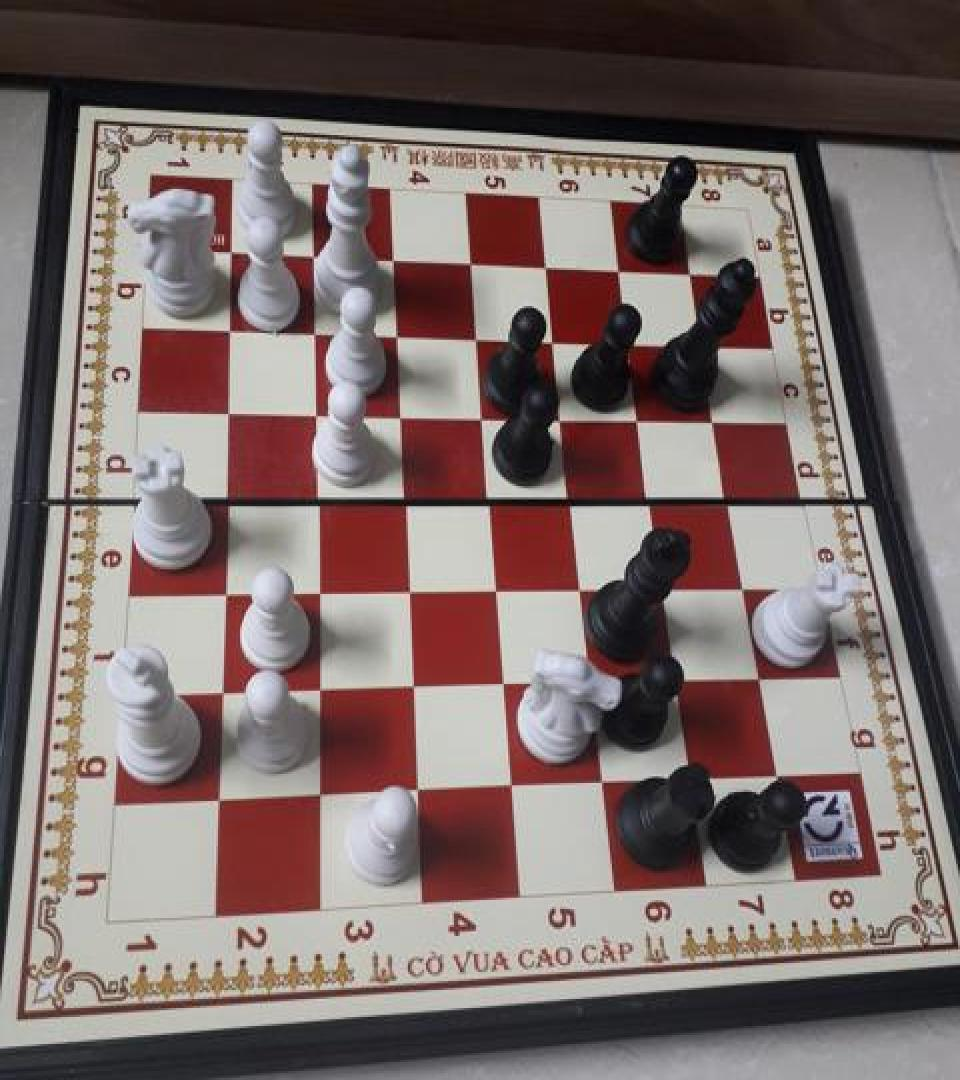xcorner: (208, 571, 240, 608), (660, 660, 692, 697), (302, 669, 334, 706), (674, 256, 706, 292), (603, 253, 635, 289), (529, 248, 561, 284), (454, 245, 486, 281), (377, 241, 409, 277), (298, 238, 330, 274), (217, 233, 249, 269), (686, 328, 718, 364), (613, 324, 645, 360), (537, 322, 569, 358), (460, 318, 492, 354), (381, 315, 413, 351), (299, 313, 331, 349), (215, 310, 247, 346), (699, 402, 731, 438), (623, 400, 655, 436), (546, 398, 578, 434), (466, 396, 498, 432), (384, 395, 416, 431), (300, 392, 332, 428), (712, 482, 744, 518), (635, 482, 667, 518), (555, 480, 587, 516), (473, 480, 505, 516), (388, 479, 420, 515), (300, 478, 332, 514), (210, 477, 242, 513), (727, 567, 759, 603), (647, 568, 679, 604), (564, 568, 596, 604), (479, 569, 511, 605), (392, 569, 424, 605), (301, 570, 333, 606), (743, 659, 775, 695), (575, 662, 607, 698), (487, 665, 519, 701), (396, 667, 428, 703), (205, 672, 237, 708), (759, 757, 791, 793), (674, 760, 706, 796), (586, 764, 618, 800), (495, 767, 527, 803), (401, 772, 433, 808), (303, 776, 335, 812), (203, 780, 235, 816), (213, 391, 245, 426)
